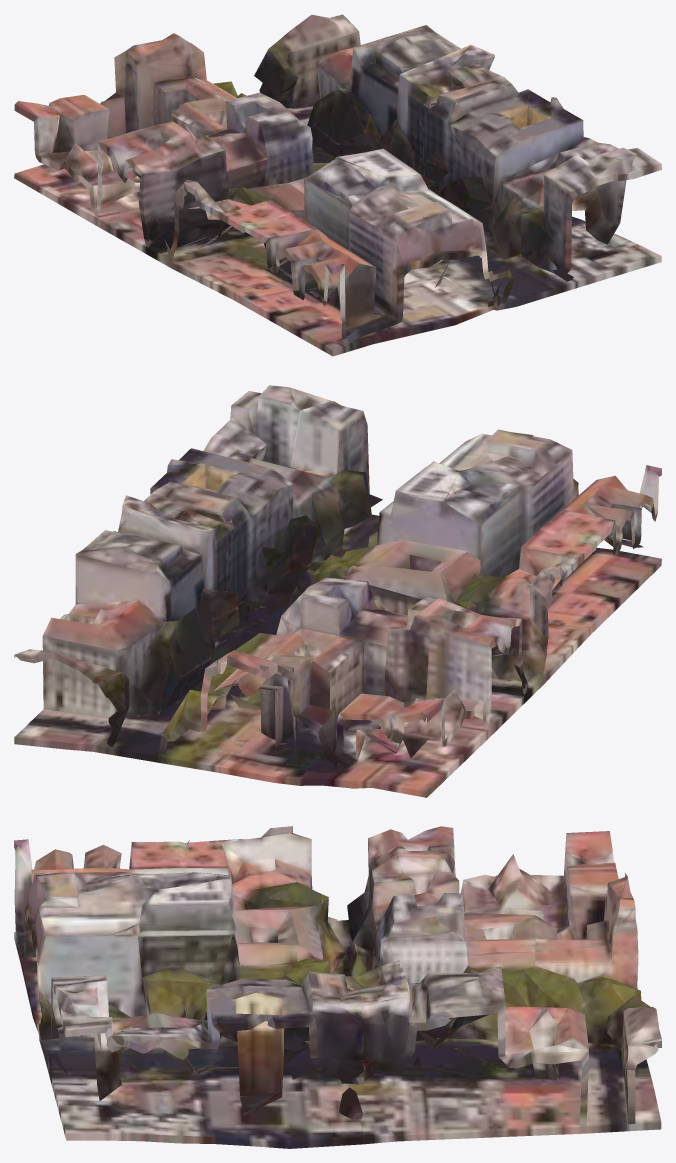
The picture shows the model from 3 angles, top to bottom: view 1: azimuth 30°, elevation 25°; view 2: azimuth 150°, elevation 25°; view 3: azimuth 270°, elevation 25°; orthographic projection. The views are drawn at different scales.
Parts seen in each view (by area): view 1: Mesh_0; view 2: Mesh_0; view 3: Mesh_0.
Boxes of the visible parts, left/top/right/bottom form: Mesh_0: left=14, top=14, right=661, bottom=356; Mesh_0: left=14, top=385, right=661, bottom=797; Mesh_0: left=14, top=826, right=661, bottom=1148.
Bounding box in the file's own units: 133 × 41.44 × 165.
Materials: 1 (1 with a texture image).
